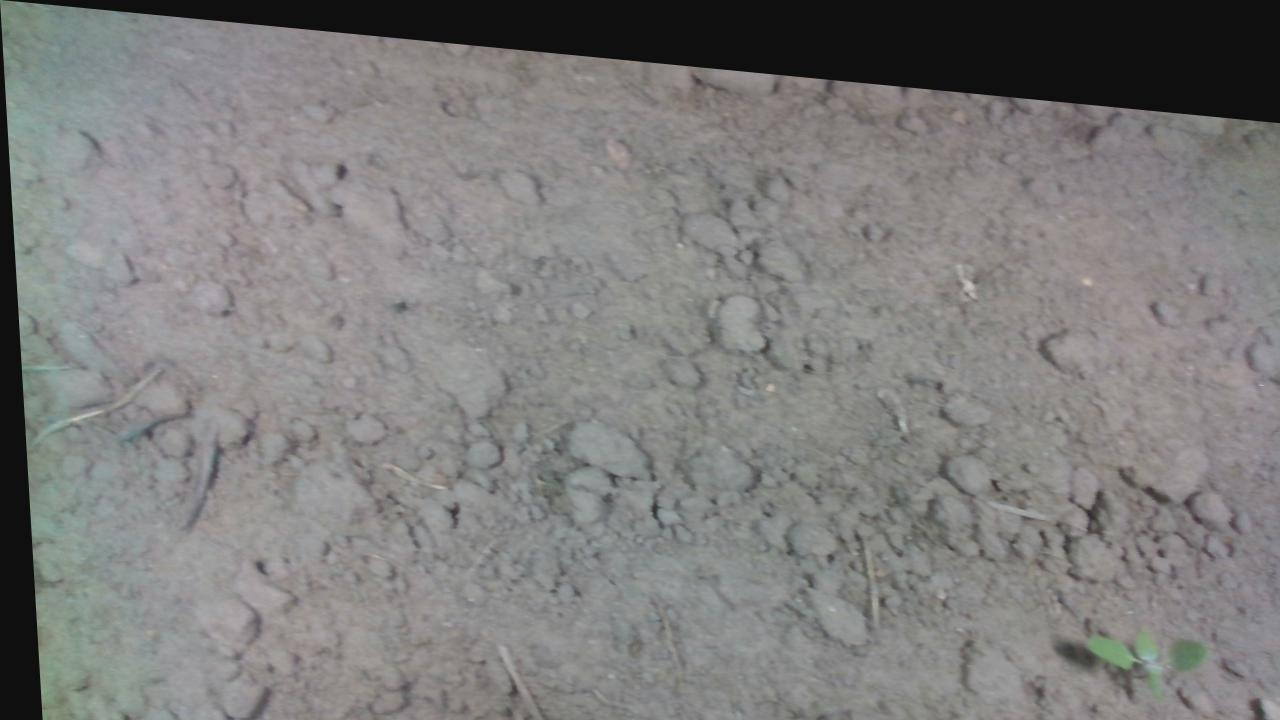weed: (1072, 592, 1207, 678)
